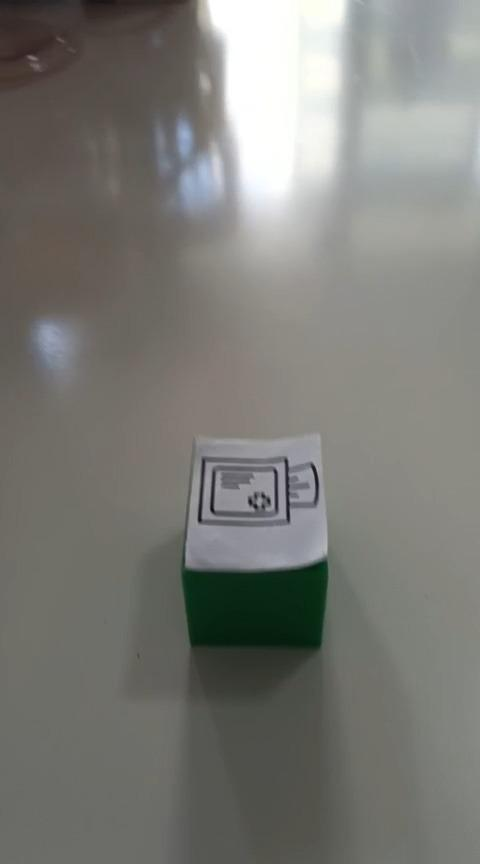Gauze: (179, 431, 329, 649)
